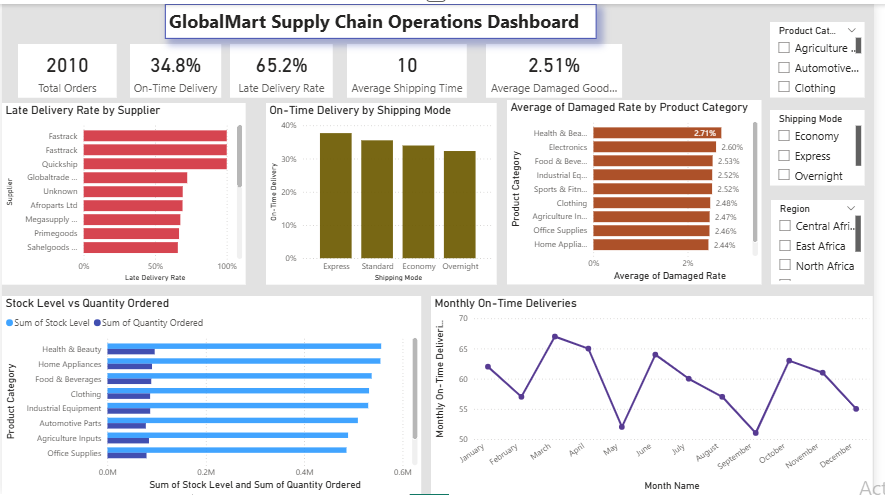

The page's visual inventory and layout, read from the dashboard file:
{"tool":"powerbi","page":{"name":"Supply Chain Operations Dashboard","canvas":[1280,720],"ordinal":0},"visuals":[{"type":"card","fields":{"Values":["Cleaned Data.Average Damaged Goods Rate"]},"box":[711.2,58.8,200,78.8],"z":0},{"type":"card","fields":{"Values":["Cleaned Data.Average Shipping Time"]},"box":[506.2,58.8,176.2,78.8],"z":1000},{"type":"card","fields":{"Values":["Cleaned Data.Total Order"]},"box":[23.8,58.8,145,78.8],"z":2000},{"type":"card","fields":{"Values":["Cleaned Data.Late Delivery Rate"]},"box":[335,58.8,151.2,78.8],"z":3000},{"type":"card","fields":{"Values":["Cleaned Data.On-Time Delivery"]},"box":[187.5,58.8,133.8,78.8],"z":4000},{"type":"clusteredBarChart","fields":{"Category":["Cleaned Data.Supplier"],"Y":["Cleaned Data.Late Delivery Rate"]},"box":[0,145.6,358.2,267.1],"z":5000},{"type":"clusteredColumnChart","fields":{"Category":["Cleaned Data.Shipping Mode"],"Y":["Cleaned Data.On-Time Delivery"]},"box":[387.3,145.6,339.2,267.1],"z":6000},{"type":"lineChart","title":"Monthly On-Time Deliveries ","fields":{"Y":["Cleaned Data.Monthly On-Time Deliveries"],"Category":["Cleaned Data.Month Name"]},"box":[630.4,429.1,649.4,291.1],"z":7000},{"type":"clusteredBarChart","title":"Stock Level vs Quantity Ordered","fields":{"Category":["Cleaned Data.Product Category"],"Y":["Sum(Cleaned Data.Stock Level)","Sum(Cleaned Data.Quantity Ordered)"]},"box":[0,429.1,615.2,291.1],"z":8000},{"type":"clusteredBarChart","fields":{"Category":["Cleaned Data.Product Category"],"Y":["Avg(Cleaned Data.Damaged Rate)"]},"box":[742.5,141.2,373.8,271.2],"z":9000},{"type":"textbox","box":[240,0,633.8,51.2],"z":10000},{"type":"slicer","fields":{"Values":["Cleaned Data.Region"]},"box":[1130.4,288.6,136.7,124.1],"z":11000},{"type":"slicer","fields":{"Values":["Cleaned Data.Shipping Mode"]},"box":[1127.8,155.7,139.2,111.4],"z":12000},{"type":"slicer","fields":{"Values":["Cleaned Data.Product Category"]},"box":[1127.8,26.6,139.2,111.4],"z":13000}]}

Visuals, with their boxes in screenshot pixels (x1, y1, x2, y2), scaled from the page's 1280x720 canvas onto the 885x495 screenshot:
card - Cleaned Data.Average Damaged Goods Rate: BBox(492, 40, 630, 95)
card - Cleaned Data.Average Shipping Time: BBox(350, 40, 472, 95)
card - Cleaned Data.Total Order: BBox(16, 40, 117, 95)
card - Cleaned Data.Late Delivery Rate: BBox(232, 40, 336, 95)
card - Cleaned Data.On-Time Delivery: BBox(130, 40, 222, 95)
clusteredBarChart - Cleaned Data.Supplier x Cleaned Data.Late Delivery Rate: BBox(0, 100, 248, 284)
clusteredColumnChart - Cleaned Data.Shipping Mode x Cleaned Data.On-Time Delivery: BBox(268, 100, 502, 284)
"Monthly On-Time Deliveries " lineChart: BBox(436, 295, 884, 494)
"Stock Level vs Quantity Ordered" clusteredBarChart: BBox(0, 295, 425, 494)
clusteredBarChart - Cleaned Data.Product Category x Avg(Cleaned Data.Damaged Rate): BBox(513, 97, 772, 284)
textbox: BBox(166, 0, 604, 35)
slicer - Cleaned Data.Region: BBox(782, 198, 876, 284)
slicer - Cleaned Data.Shipping Mode: BBox(780, 107, 876, 184)
slicer - Cleaned Data.Product Category: BBox(780, 18, 876, 95)
